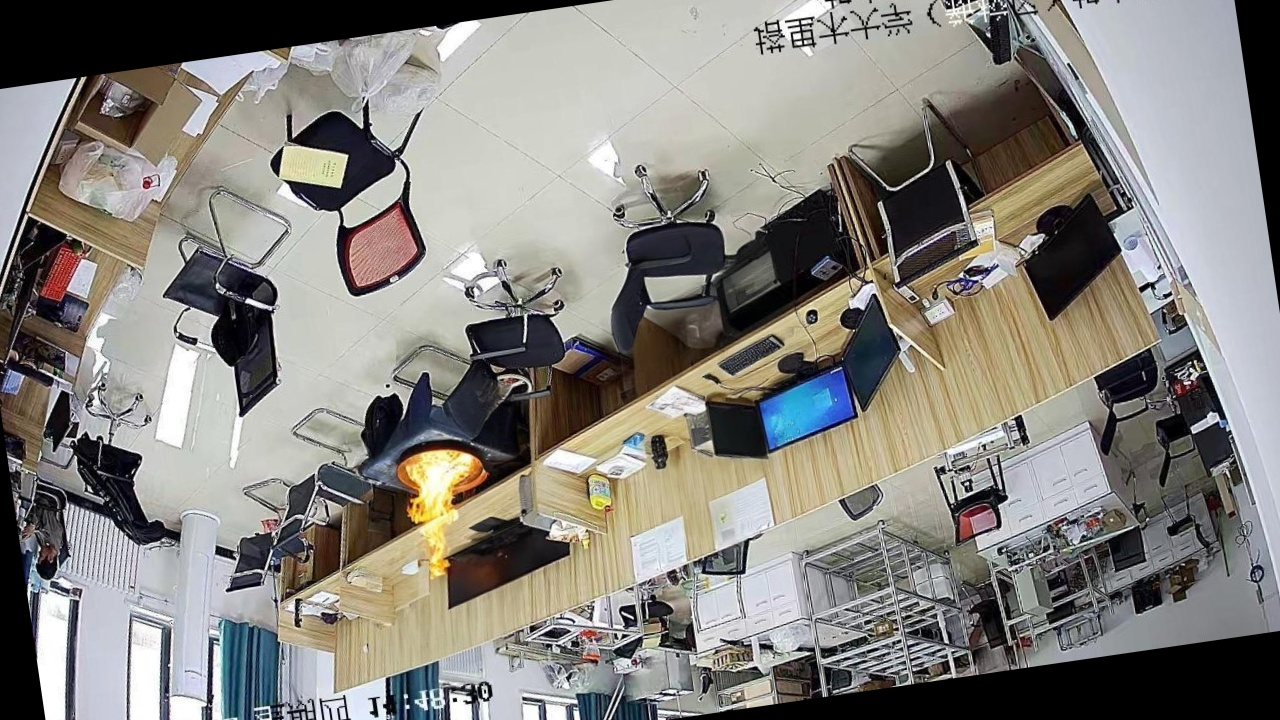fire: (377, 427, 508, 590)
